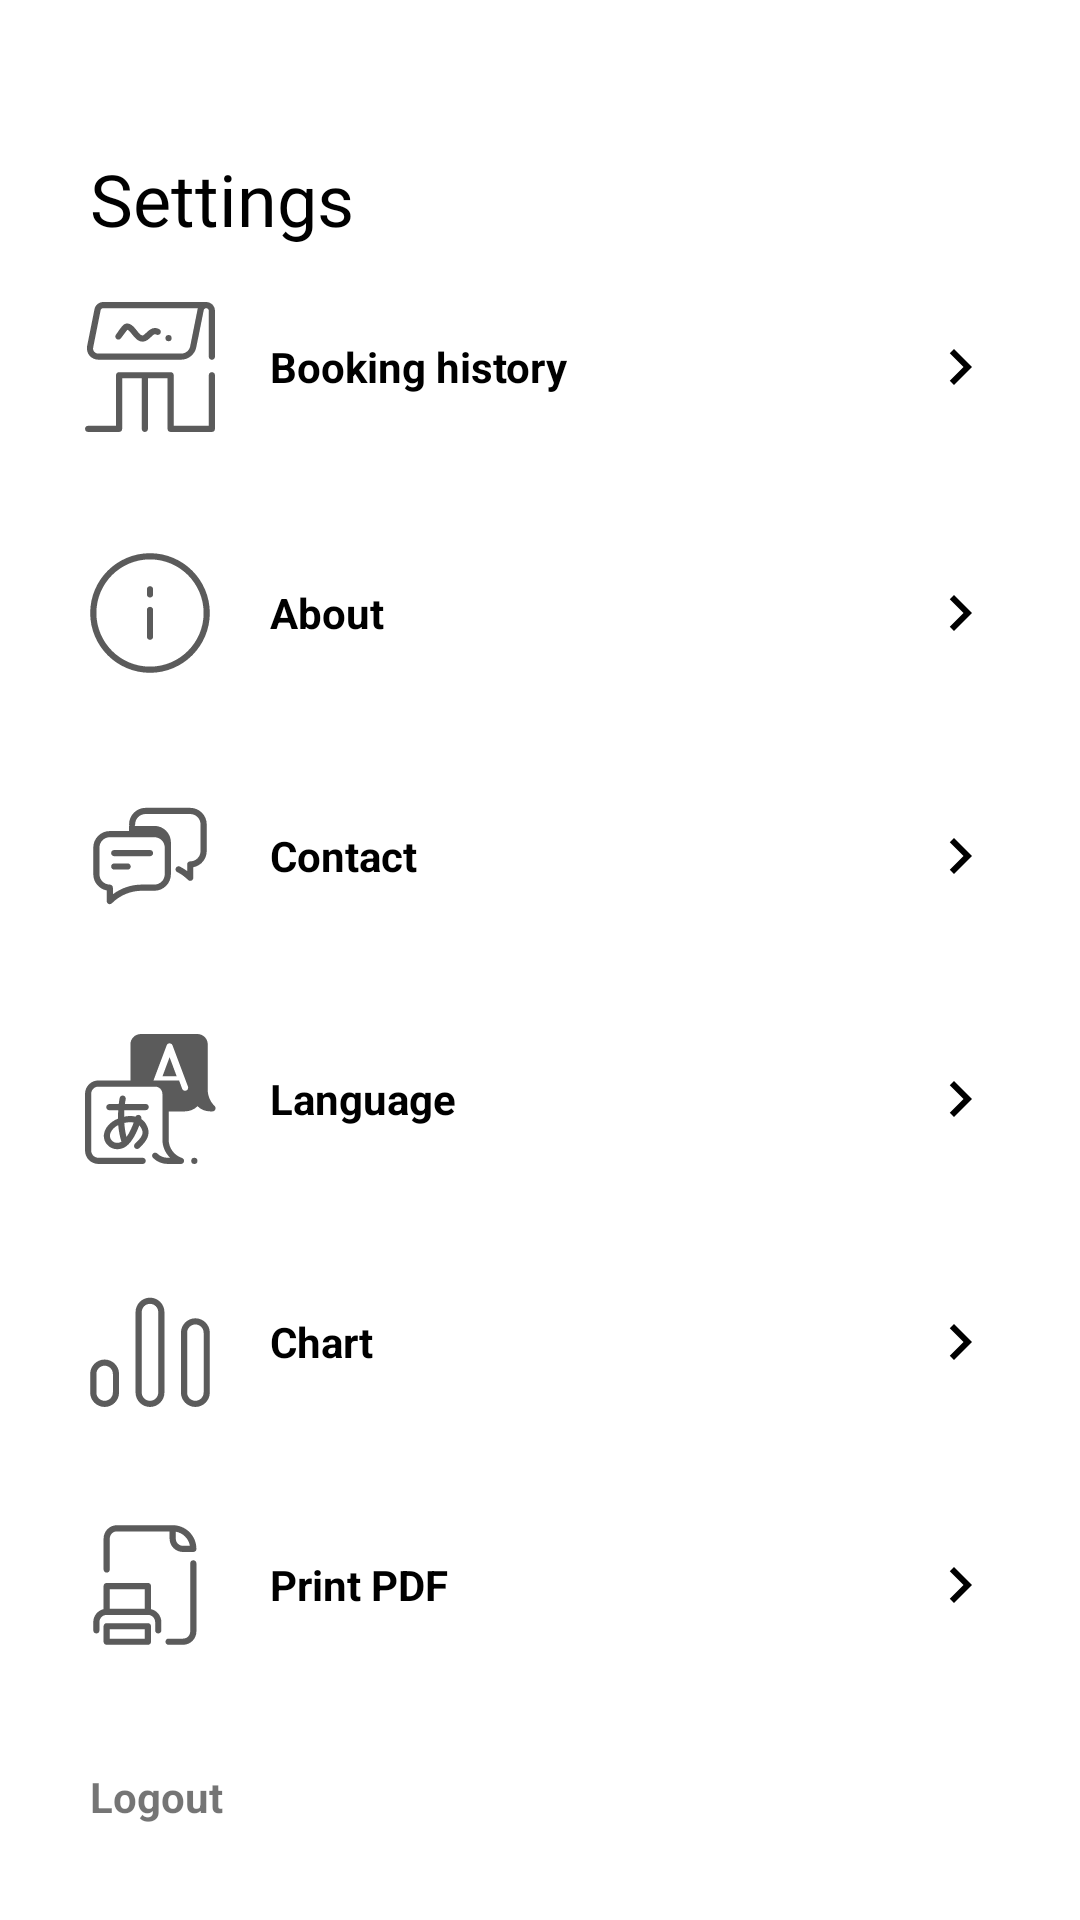

Named icons in this screenshot (1080px x 1920px) and their centers, (x=x, y=y):
communication: (x=150, y=856)
info: (x=150, y=613)
print file: (x=145, y=1585)
right: (x=961, y=367), (x=961, y=613), (x=961, y=856), (x=961, y=1099), (x=961, y=1342), (x=961, y=1585)
translation: (x=150, y=1099)
